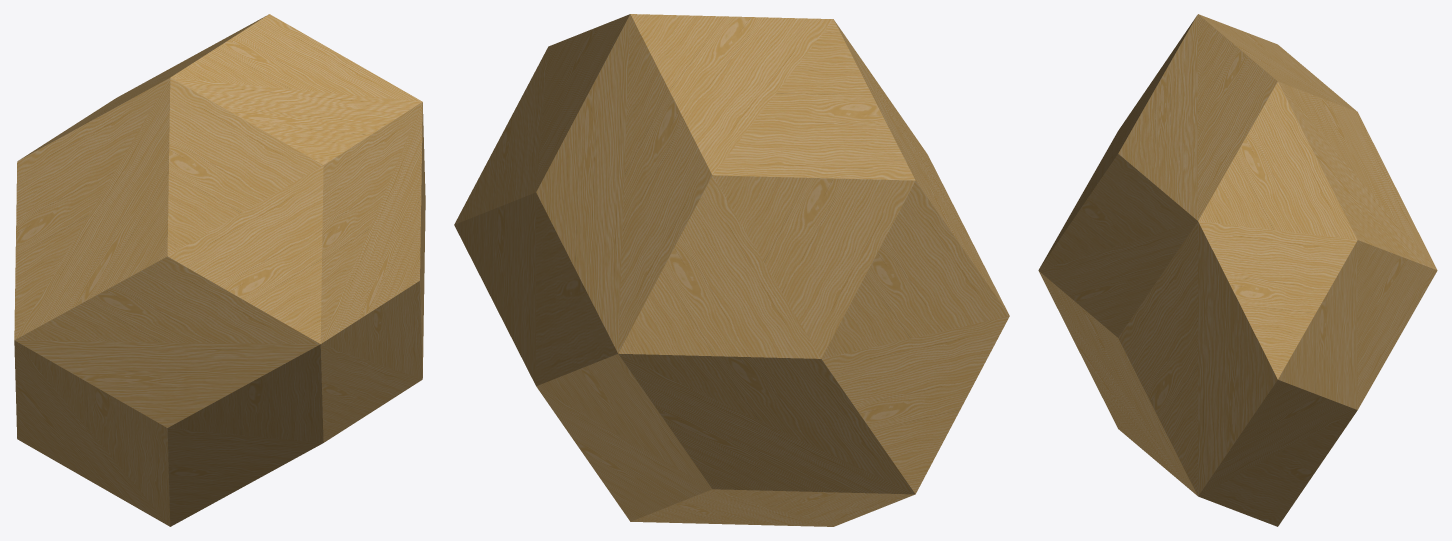
File: RhombicIcosahedron.glb
3 views of the same model, side by side, from view 1: azimuth 30°, elevation 25°; view 2: azimuth 150°, elevation 25°; view 3: azimuth 270°, elevation 25° (orthographic). The views are drawn at different scales.
Visible parts, largest first — view 1: 000_model; view 2: 000_model; view 3: 000_model.
Part boxes in pixels (<box>): 000_model: <box>14,14,425,526</box>; 000_model: <box>454,14,1009,526</box>; 000_model: <box>1038,14,1437,526</box>.
Bounding box in the file's own units: 4.34 × 4.13 × 3.35.
Materials: 1 (1 with a texture image).
